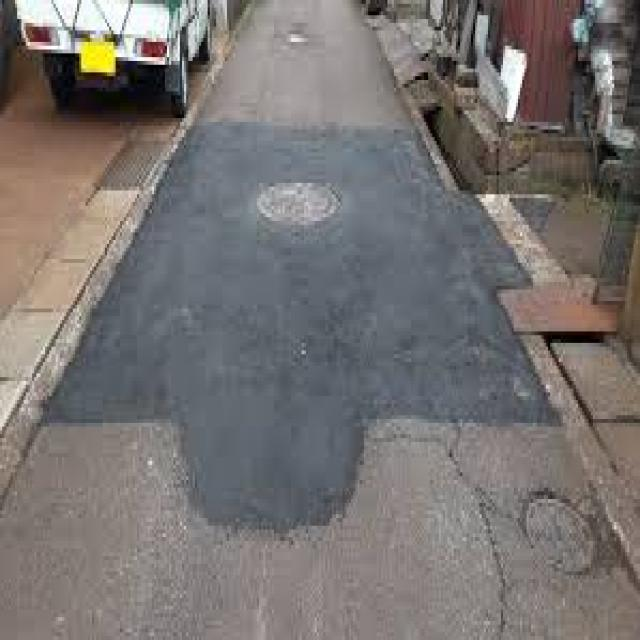manhole: (257, 181, 338, 227)
